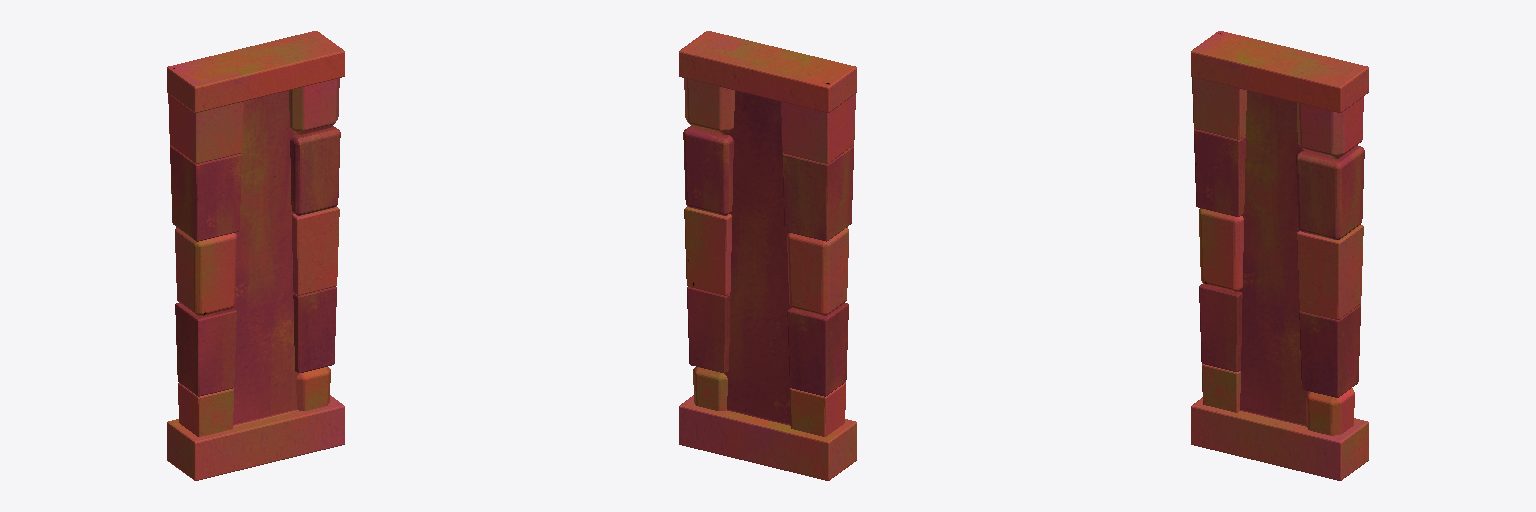
3 renders of one model, left to right at view 1: azimuth 30°, elevation 25°; view 2: azimuth 150°, elevation 25°; view 3: azimuth 330°, elevation 25°, orthographic.
Parts seen in each view (by area): view 1: TEMPLE_WALL_1_005; view 2: TEMPLE_WALL_1_005; view 3: TEMPLE_WALL_1_005.
Part boxes in pixels (bbox=[...]): TEMPLE_WALL_1_005: bbox=[167, 31, 344, 480]; TEMPLE_WALL_1_005: bbox=[679, 31, 856, 480]; TEMPLE_WALL_1_005: bbox=[1191, 31, 1368, 480].
Size of the model in its own units: 1.2 by 3 by 0.4.
2 materials, 2 textured.